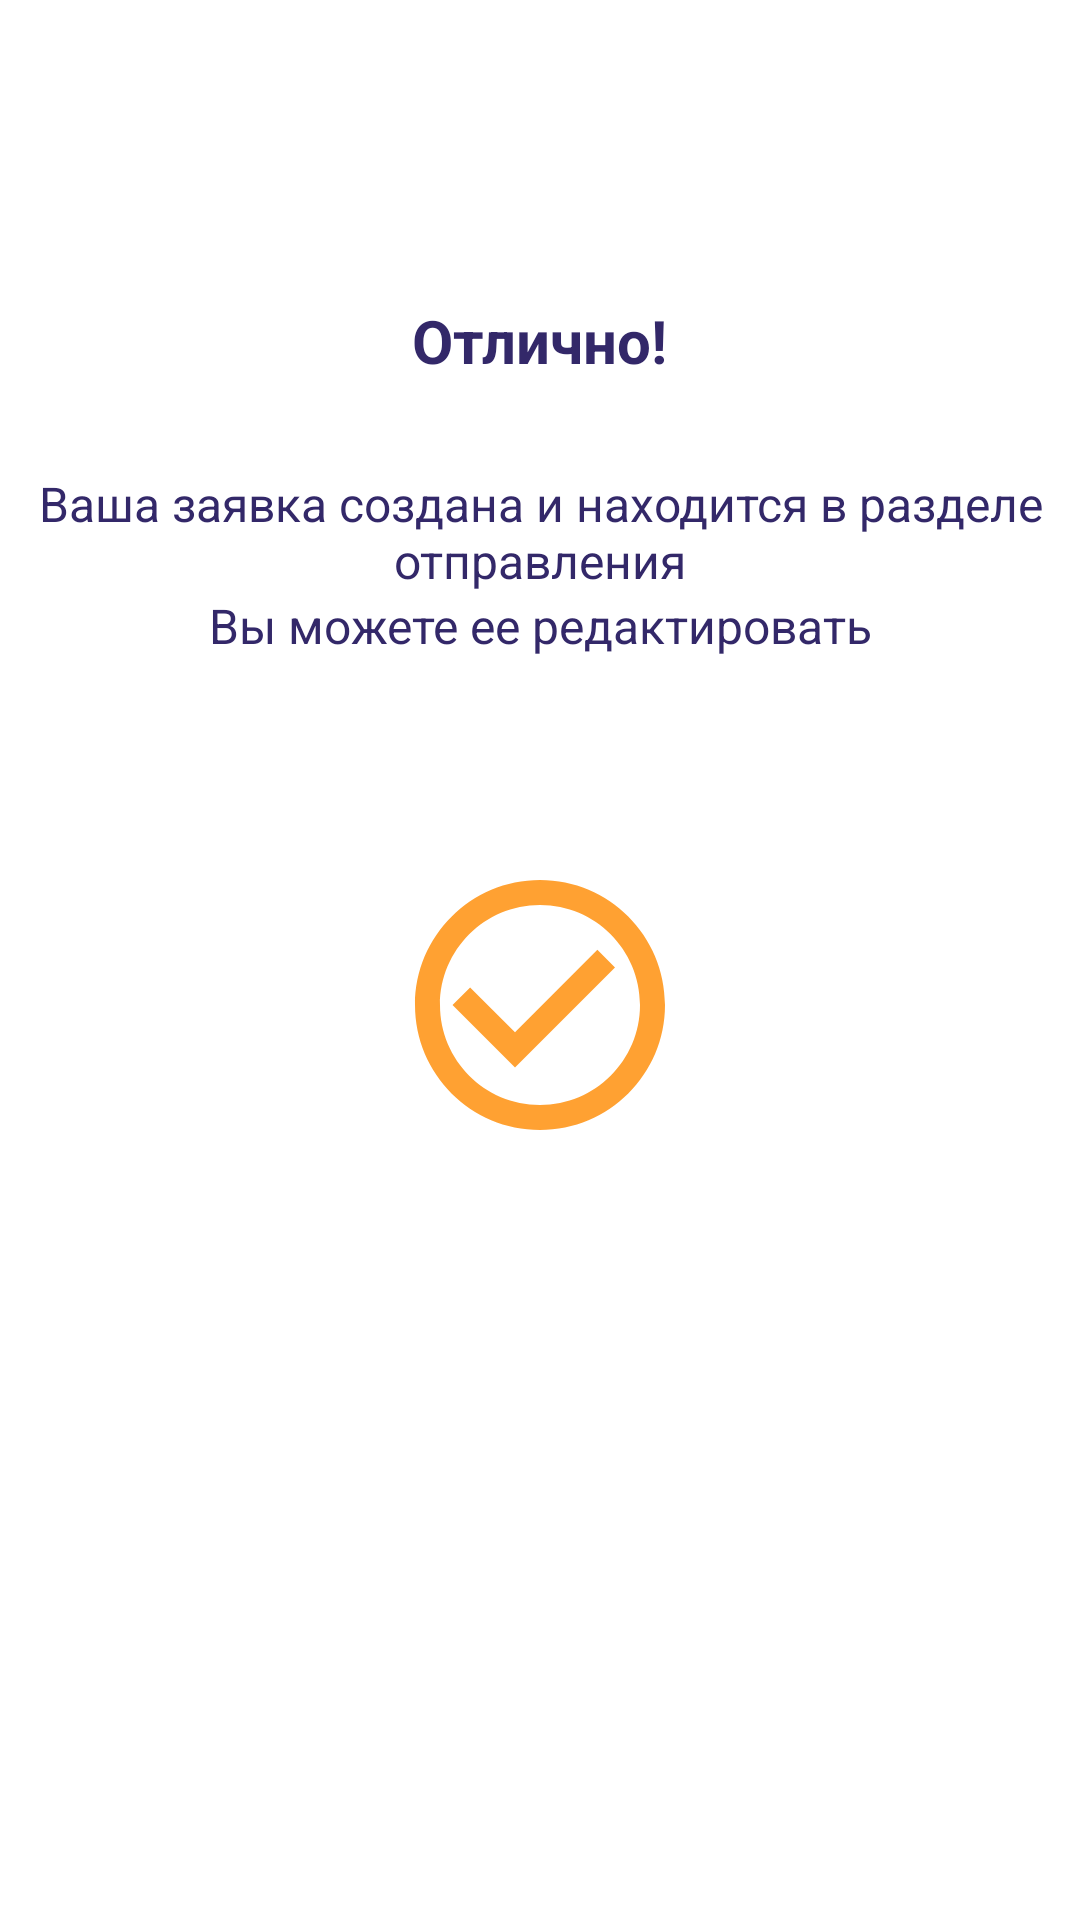

Locate icon controls on the screen. Image size 1080×1920, boxes as (x1, y1, x2, y2).
check mark: (415, 880, 665, 1130)
